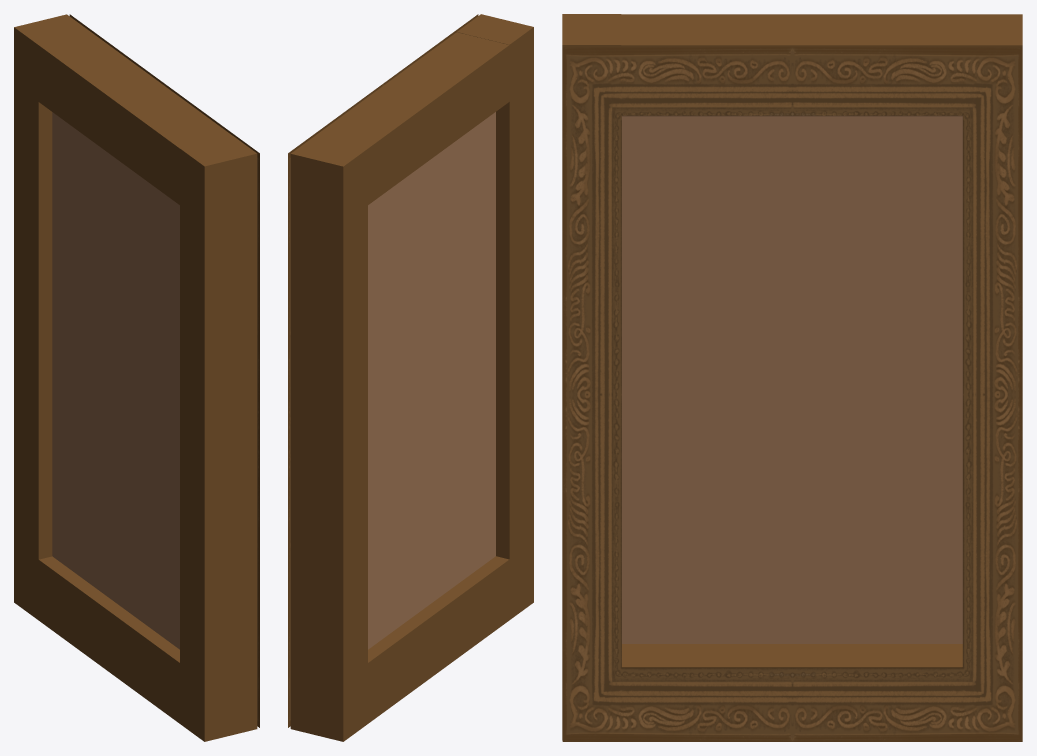
File: Kein_Bild.glb
3 views of the same model, side by side, from view 1: azimuth 30°, elevation 25°; view 2: azimuth 150°, elevation 25°; view 3: azimuth 270°, elevation 25° (orthographic). The views are drawn at different scales.
Parts seen in each view (by area): view 1: Bilderrahmen_Kein_Bild; view 2: Bilderrahmen_Kein_Bild; view 3: Bilderrahmen_Kein_Bild.
Part boxes in pixels (left/top/right/bottom): Bilderrahmen_Kein_Bild: left=14, top=14, right=259, bottom=741; Bilderrahmen_Kein_Bild: left=288, top=14, right=533, bottom=741; Bilderrahmen_Kein_Bild: left=562, top=14, right=1022, bottom=741.
Size of the model in its own units: 0.2521 by 2.5 by 1.5.
Materials: 3 (1 with a texture image).
